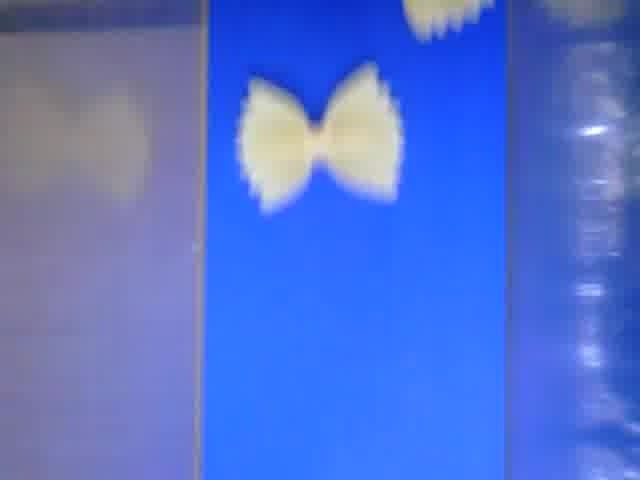farfalle: (237, 67, 404, 210), (400, 1, 482, 43)
